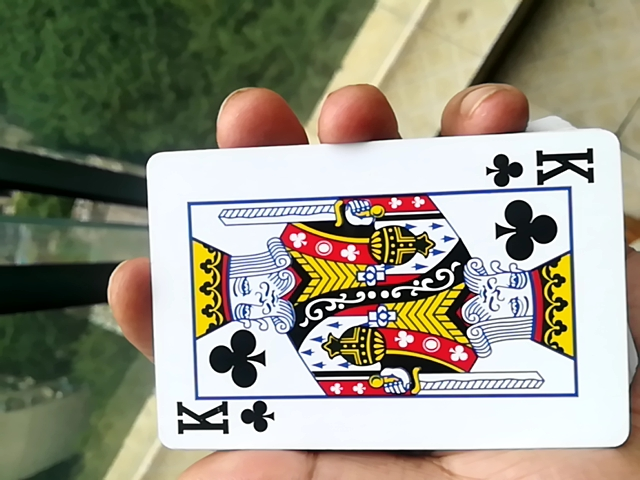mh k: (131, 138, 621, 471)
